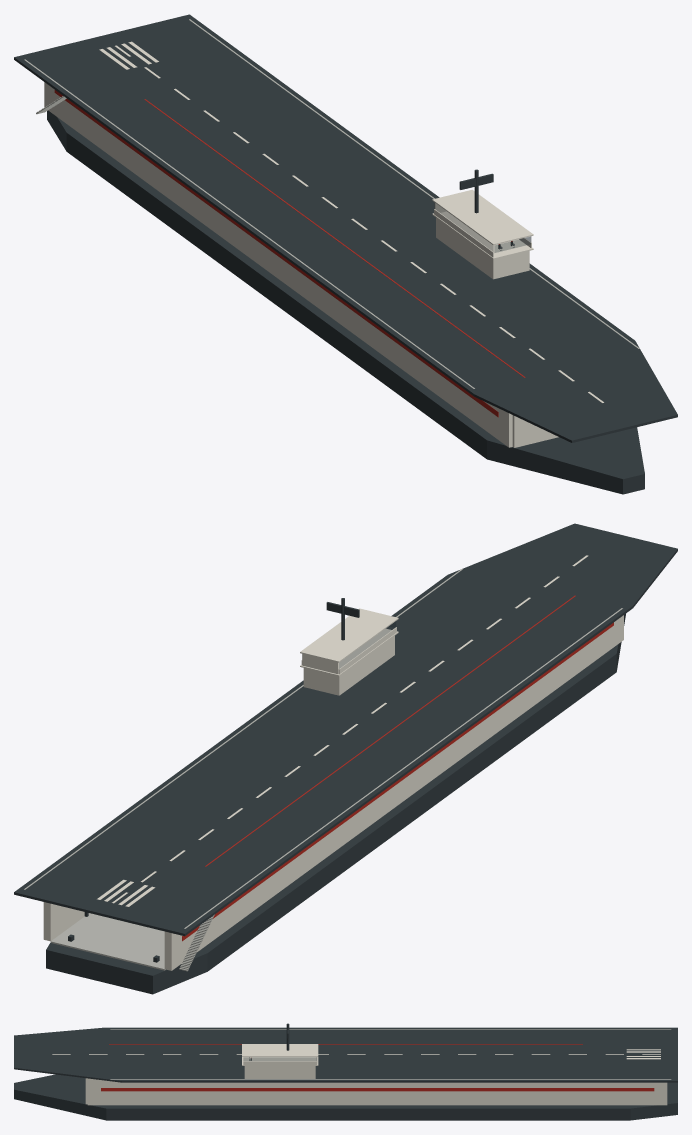
3 views of the same model, one above another, from view 1: azimuth 30°, elevation 25°; view 2: azimuth 150°, elevation 25°; view 3: azimuth 270°, elevation 25° (orthographic). The views are drawn at different scales.
Visible parts, largest first — view 1: carrier-flight-deck-painted, aircraft-carrier-fleet-machine, aircraft-carrier-fleet-armor, aircraft-carrier-fleet-red; view 2: carrier-flight-deck-painted, aircraft-carrier-fleet-armor, aircraft-carrier-fleet-machine, aircraft-carrier-fleet-edge, aircraft-carrier-fleet-red; view 3: carrier-flight-deck-painted, aircraft-carrier-fleet-armor, aircraft-carrier-fleet-machine, aircraft-carrier-fleet-red, aircraft-carrier-fleet-glass.
Boxes of the visible parts, <box> form: carrier-flight-deck-painted: <box>14,14,677,442</box>; aircraft-carrier-fleet-machine: <box>47,110,644,494</box>; aircraft-carrier-fleet-armor: <box>44,82,558,447</box>; aircraft-carrier-fleet-red: <box>54,90,498,417</box>; carrier-flight-deck-painted: <box>14,523,677,936</box>; aircraft-carrier-fleet-armor: <box>43,608,623,970</box>; aircraft-carrier-fleet-machine: <box>46,598,625,994</box>; aircraft-carrier-fleet-edge: <box>50,913,214,971</box>; aircraft-carrier-fleet-red: <box>182,622,613,941</box>; carrier-flight-deck-painted: <box>14,1027,677,1082</box>; aircraft-carrier-fleet-armor: <box>85,1044,667,1105</box>; aircraft-carrier-fleet-machine: <box>14,1023,677,1120</box>; aircraft-carrier-fleet-red: <box>101,1088,654,1091</box>; aircraft-carrier-fleet-glass: <box>243,1057,316,1060</box>.
Bounding box in the file's own units: 253 × 205 × 1326.
